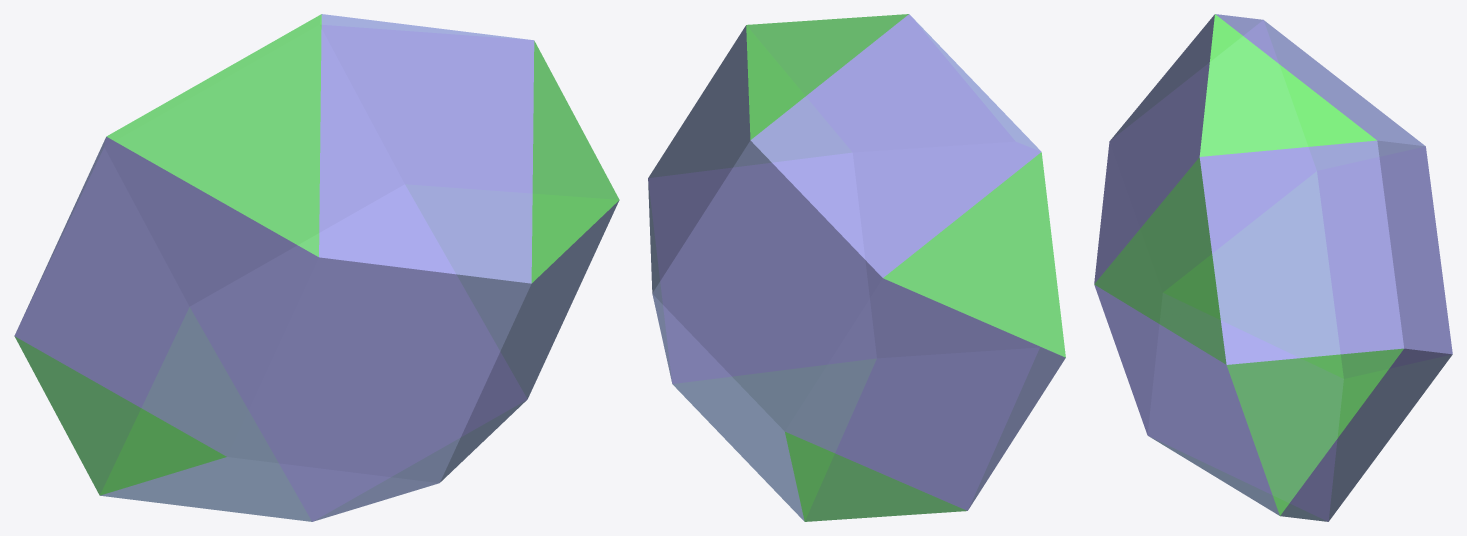
The model's file is j29_square_gyrobicupola.obj.
The picture shows the model from 3 angles, left to right: view 1: azimuth 30°, elevation 25°; view 2: azimuth 150°, elevation 25°; view 3: azimuth 270°, elevation 25°; orthographic projection. The views are drawn at different scales.
Bounding box in the file's own units: 2.21 × 2.19 × 1.47.
